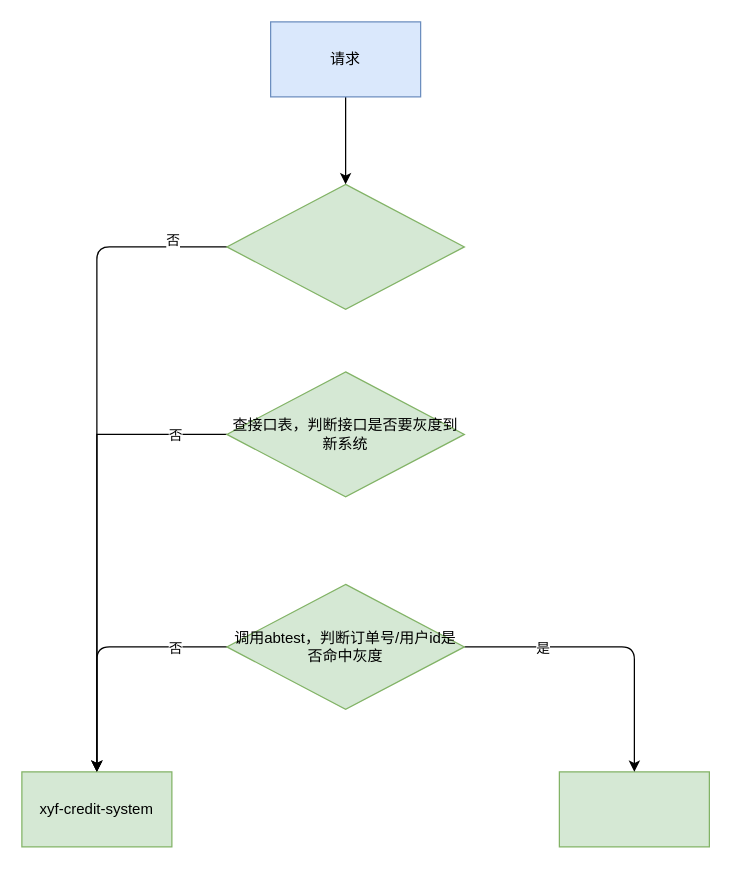
The diagram is 731 pixels wide and 869 high, and some of its shapes have lost their labels. Each missing label, with the box of its shape:
openplatformcore: (558, 771, 709, 847)
查渠道表，判断渠道是否要灰度到新系统: (226, 183, 464, 309)
